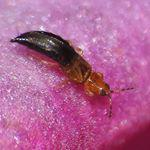tiny_pests: (0, 21, 145, 129)
